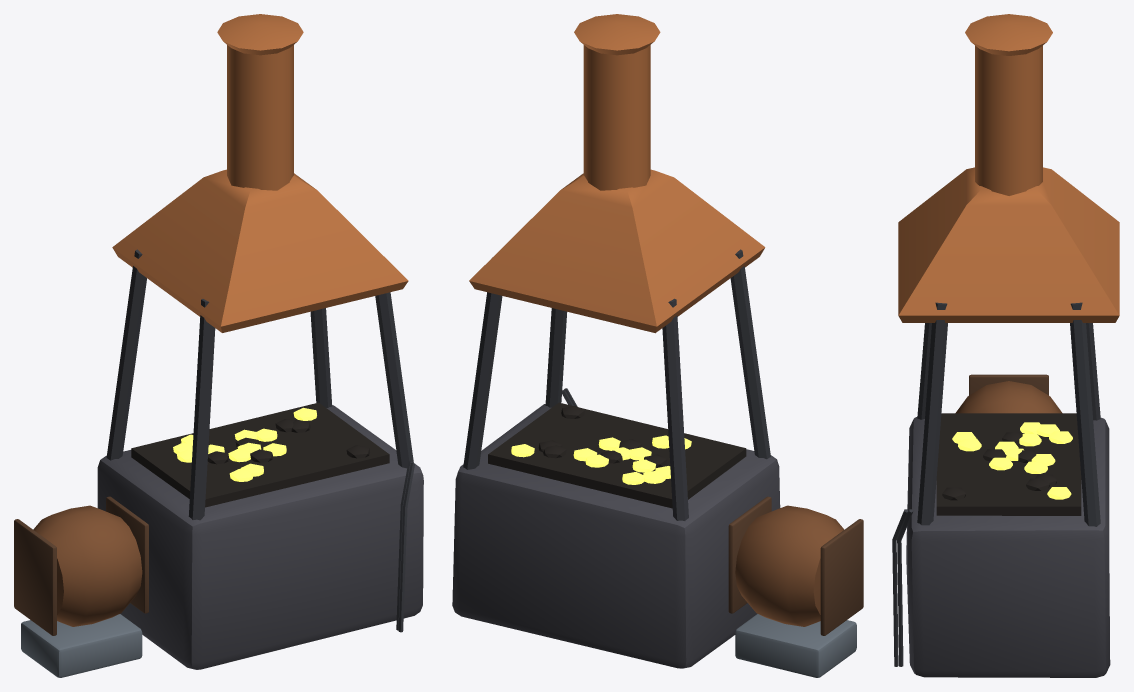
File: deco_forge.fbx
3 views of the same model, side by side, from view 1: azimuth 30°, elevation 25°; view 2: azimuth 150°, elevation 25°; view 3: azimuth 270°, elevation 25° (orthographic).
Parts seen in each view (by area): view 1: Forge_Hood, Forge_Hearth, Forge_Bellows, Forge_Coals, Forge_Tongs; view 2: Forge_Hood, Forge_Hearth, Forge_Bellows, Forge_Coals; view 3: Forge_Hood, Forge_Hearth, Forge_Coals, Forge_Bellows, Forge_Tongs.
Boxes of the visible parts, x1,y1,x2,y2 form: Forge_Hood: (106,14,413,520); Forge_Hearth: (97,405,423,669); Forge_Bellows: (14,496,148,677); Forge_Coals: (131,402,389,507); Forge_Tongs: (396,461,414,632); Forge_Hood: (463,14,770,520); Forge_Hearth: (452,404,780,668); Forge_Bellows: (728,496,863,677); Forge_Coals: (488,402,746,508); Forge_Hood: (898,14,1119,526); Forge_Hearth: (906,417,1110,677); Forge_Coals: (936,413,1081,515); Forge_Bellows: (955,374,1062,413); Forge_Tongs: (892,509,913,666).
Bounding box in the file's own units: 205 × 330 × 113.
